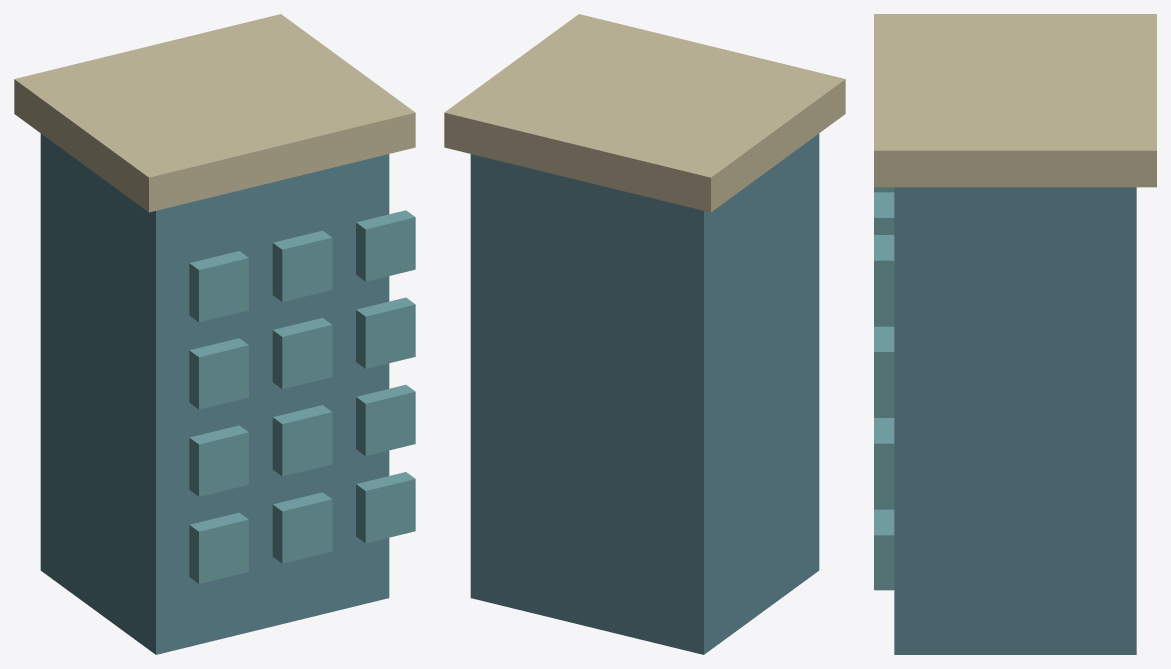
The model's file is ocean-13.glb.
3 views of the same model, side by side, from view 1: azimuth 30°, elevation 25°; view 2: azimuth 150°, elevation 25°; view 3: azimuth 270°, elevation 25° (orthographic). The views are drawn at different scales.
Visible parts, largest first — view 1: Lighthouse; view 2: Lighthouse; view 3: Lighthouse.
Part boxes in pixels (left/top/right/bottom): Lighthouse: left=14, top=14, right=415, bottom=654; Lighthouse: left=444, top=14, right=845, bottom=654; Lighthouse: left=874, top=14, right=1156, bottom=654.
Bounding box in the file's own units: 1.28 × 2.24 × 1.12.
